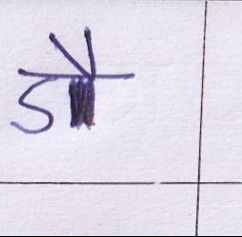au_matra: (52, 30, 105, 125)
